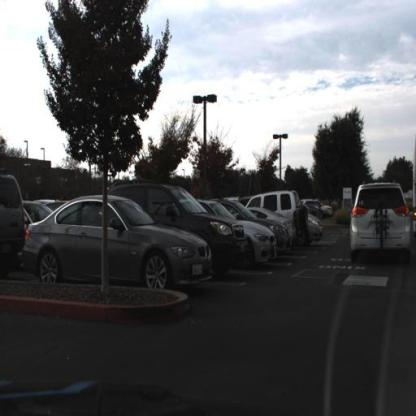car: (23, 193, 214, 295), (104, 173, 245, 278), (238, 195, 308, 251), (260, 198, 324, 249), (2, 165, 23, 288), (238, 219, 280, 272), (19, 196, 46, 228)
